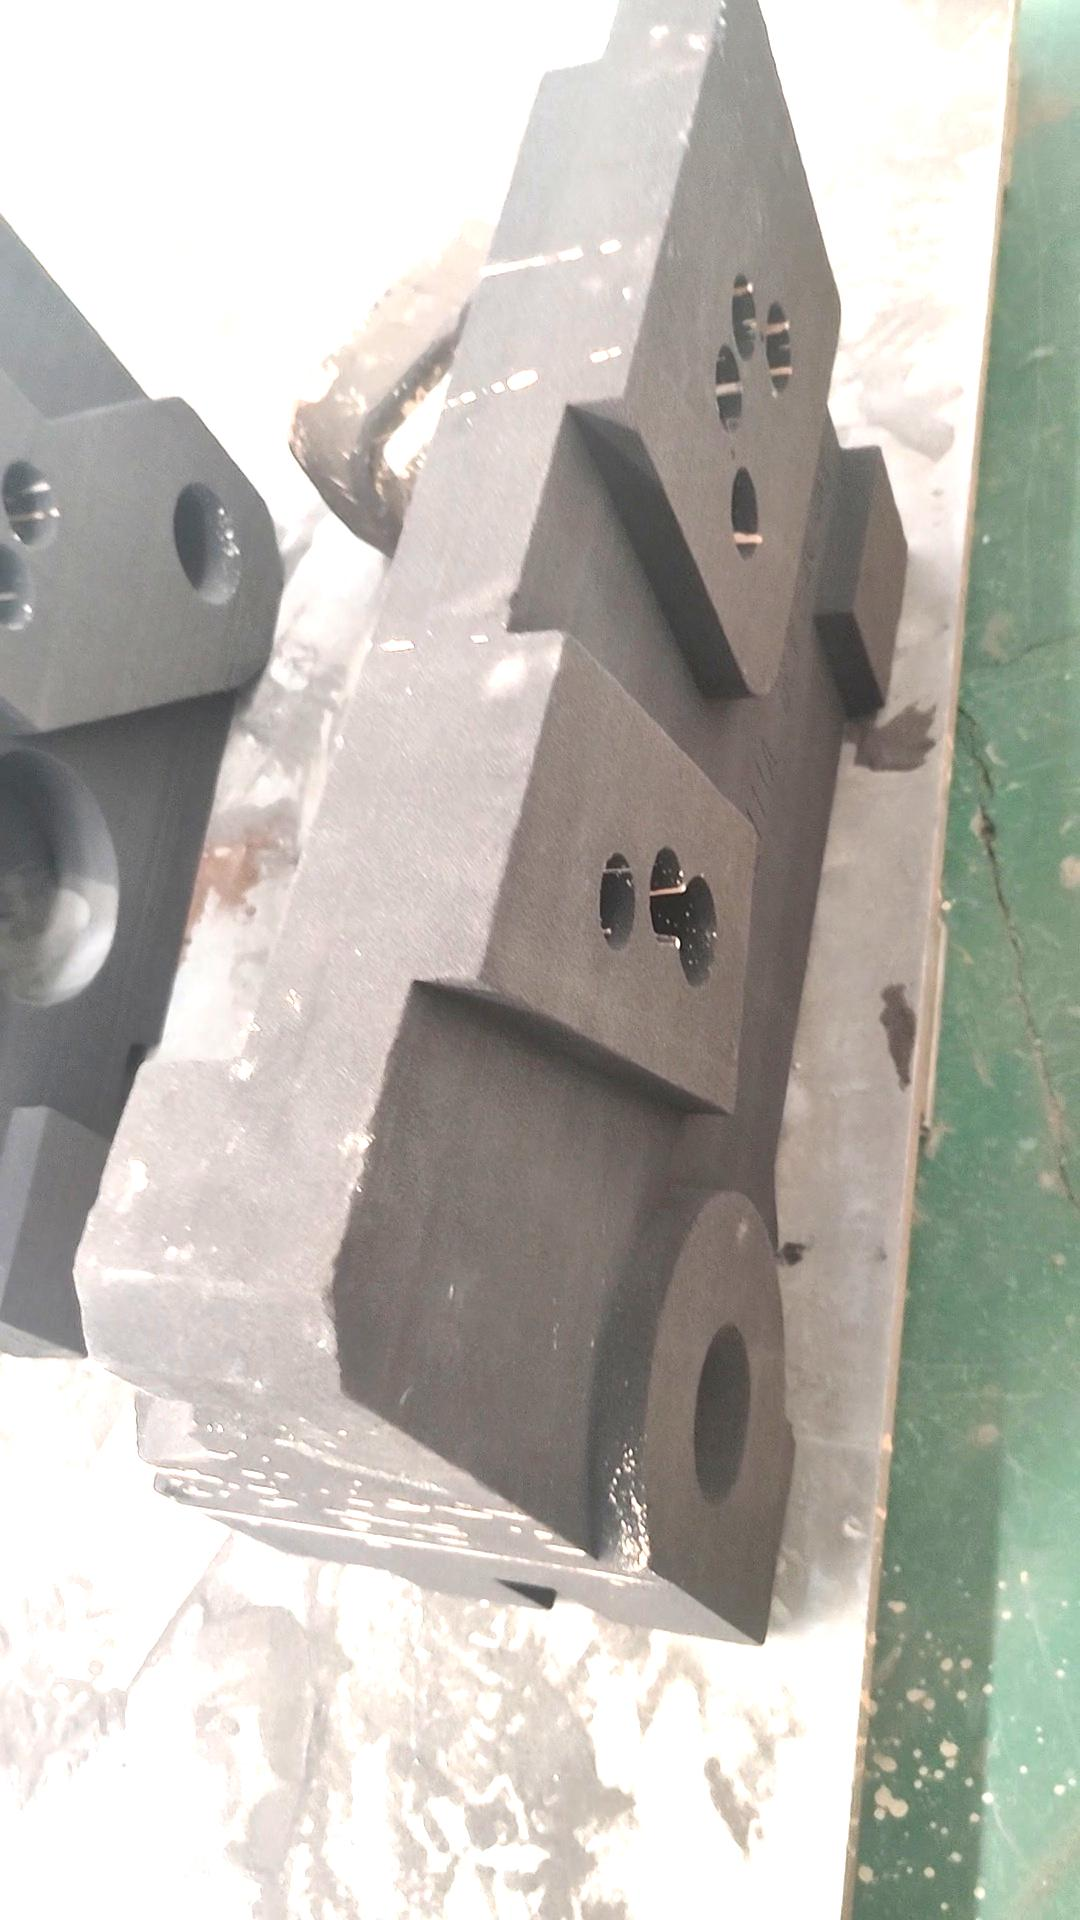pouring hole: (694, 1323, 752, 1505), (171, 483, 241, 604)
